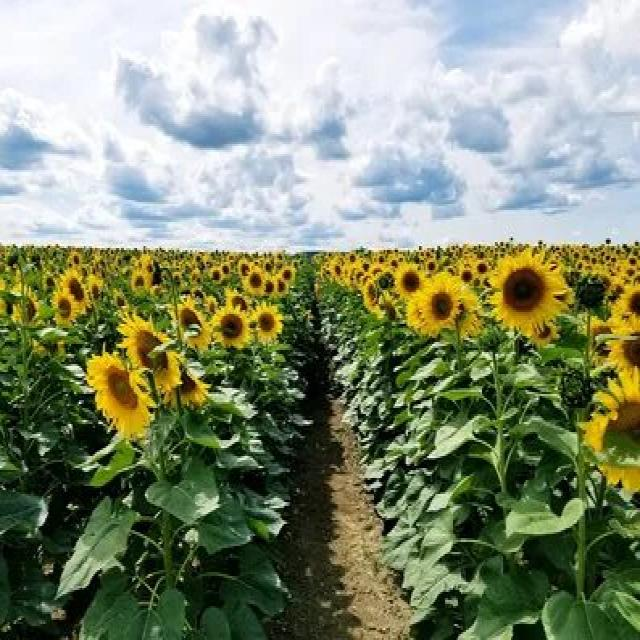sunflower: (110, 306, 192, 402), (79, 346, 158, 444), (479, 244, 561, 336), (416, 268, 459, 332), (206, 298, 247, 354), (250, 304, 288, 346), (392, 256, 422, 304), (61, 264, 90, 305), (237, 262, 268, 294)
